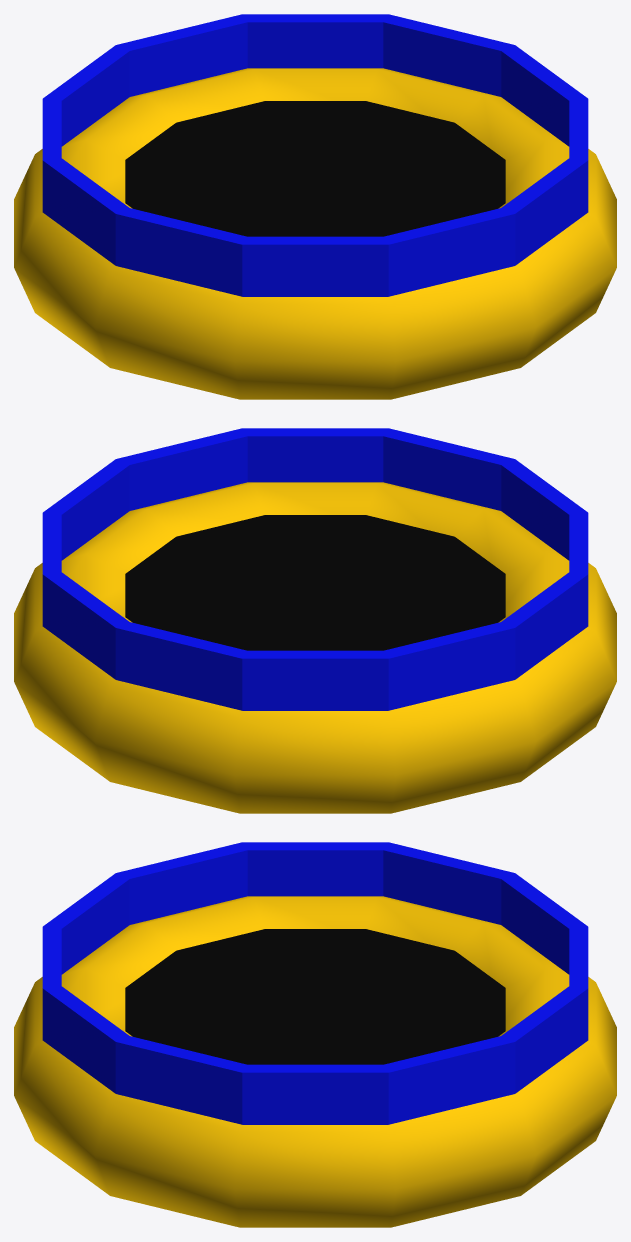
Rendered from river_rapids_boats.glb.
3 renders of one model, top to bottom at view 1: azimuth 30°, elevation 25°; view 2: azimuth 150°, elevation 25°; view 3: azimuth 270°, elevation 25°, orthographic.
Visible parts, largest first — view 1: torus, tube, cylinder; view 2: torus, tube, cylinder; view 3: torus, tube, cylinder.
Part boxes in pixels (box(x1,y1,x2,y2)): torus: box(14, 68, 616, 399); tube: box(42, 14, 588, 296); cylinder: box(125, 101, 505, 236); torus: box(14, 482, 616, 813); tube: box(42, 428, 588, 710); cylinder: box(125, 515, 505, 650); torus: box(14, 896, 616, 1227); tube: box(42, 842, 588, 1124); cylinder: box(125, 929, 505, 1064).
Size of the model in its own units: 1.31 by 0.4118 by 1.31.
Materials: 1 (1 with a texture image).
